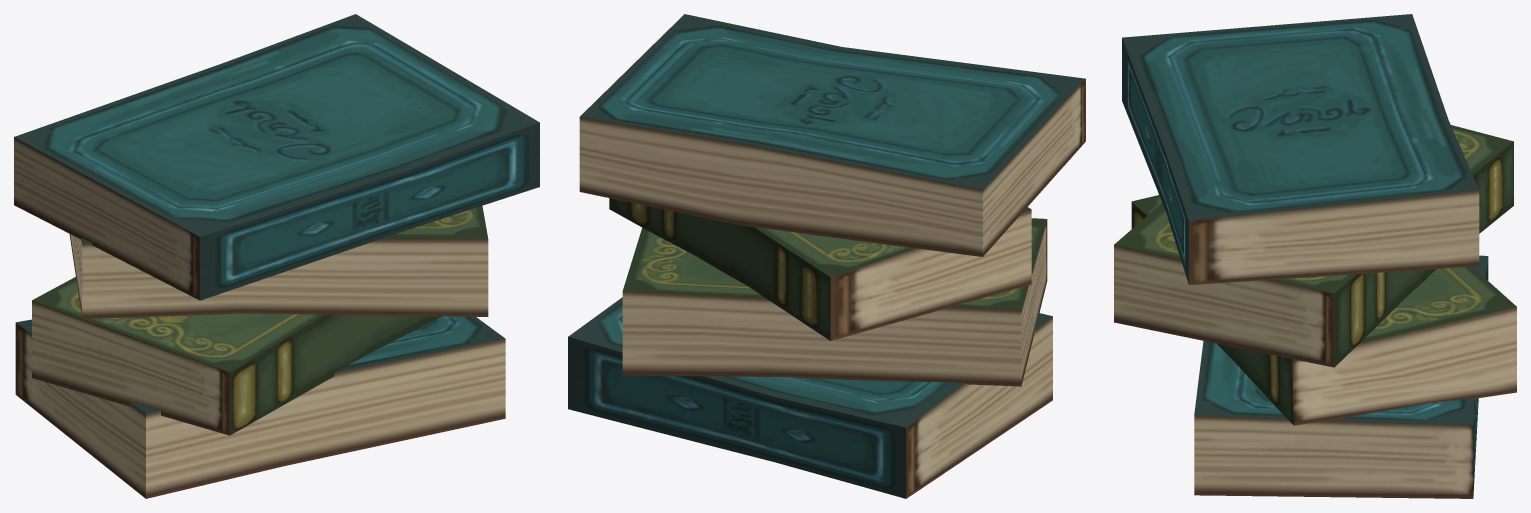
The model's file is SM_PROP_book_city_04.fbx.
The picture shows the model from 3 angles, left to right: view 1: azimuth 30°, elevation 25°; view 2: azimuth 150°, elevation 25°; view 3: azimuth 270°, elevation 25°; orthographic projection.
Visible parts, largest first — view 1: SM_PROP_book_city_04; view 2: SM_PROP_book_city_04; view 3: SM_PROP_book_city_04.
Part boxes in pixels (left/top/right/bottom): SM_PROP_book_city_04: left=14, top=14, right=539, bottom=498; SM_PROP_book_city_04: left=568, top=14, right=1085, bottom=498; SM_PROP_book_city_04: left=1114, top=14, right=1516, bottom=498.
Size of the model in its own units: 43.56 by 29.36 by 35.5.
